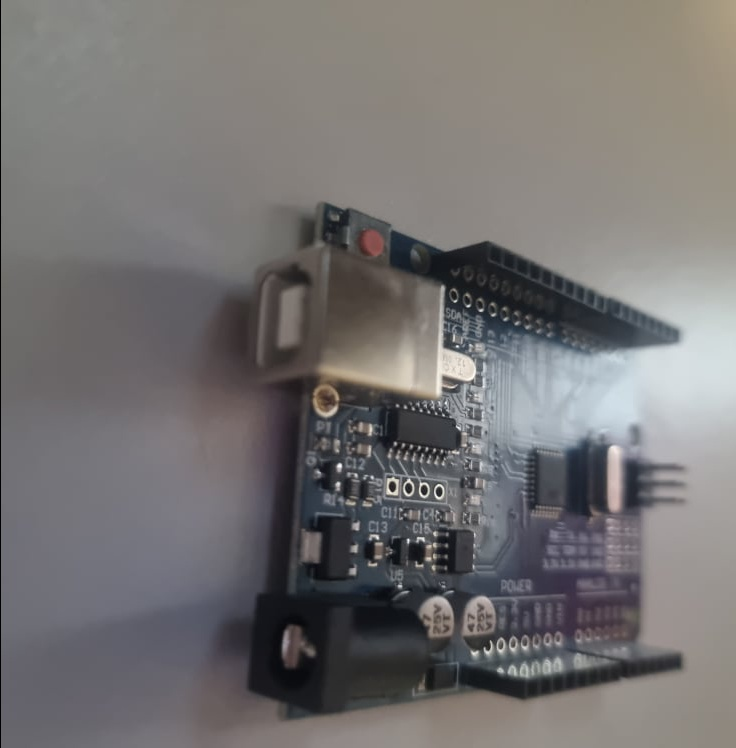UNO R3: (233, 199, 684, 727)
